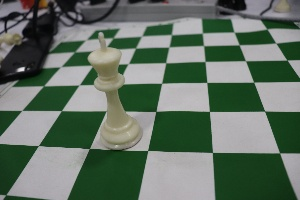white_king: (81, 24, 148, 156)
